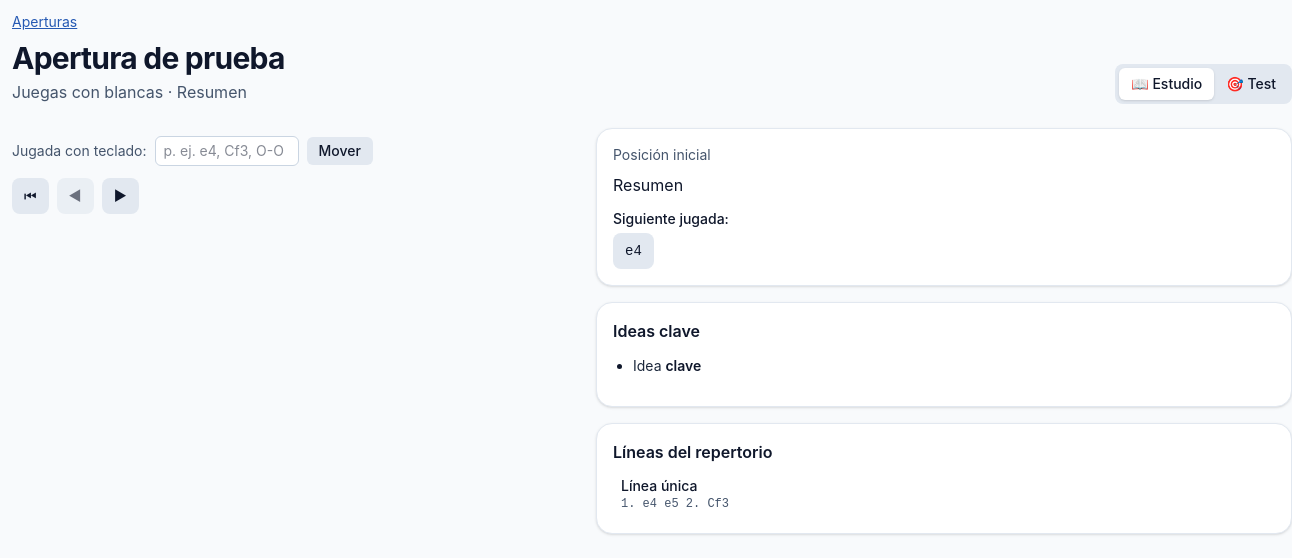
it: OpeningPage › modo estudio: recorre la línea con comentarios
Expected: the text "Idea" is shown, [633,357,665,374]
Click the button "e4" at (633, 251), box [613,233,654,269]
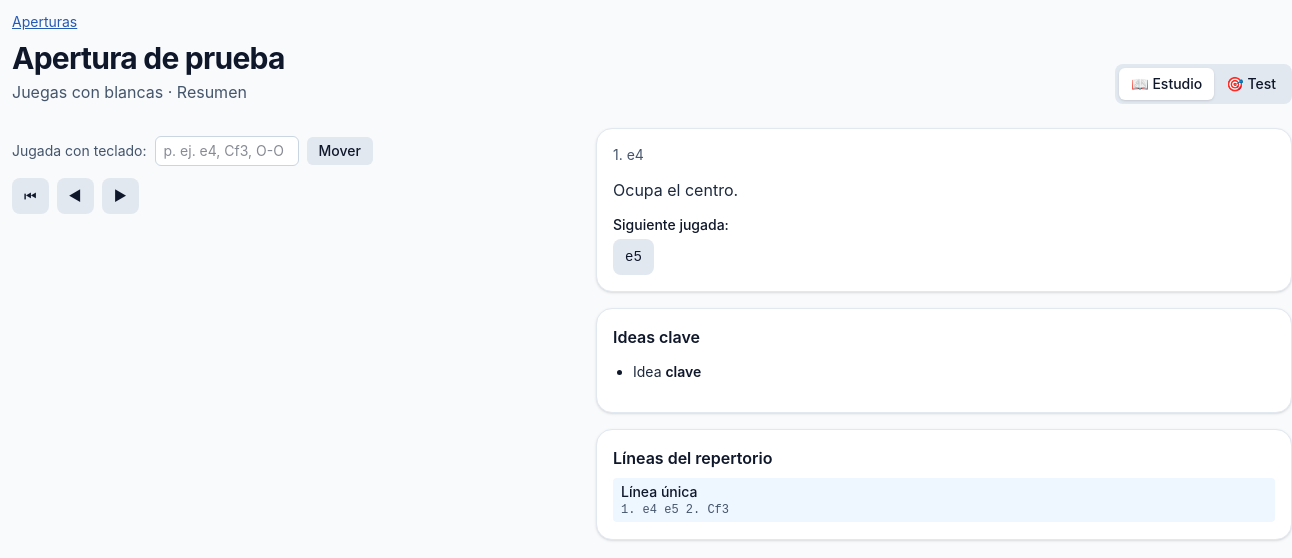
Now the text "Ocupa el centro." is shown, box [613,180,738,200]
Type "d5" into the field labelled "Jugada con teclado:" at (226, 151), box [154,136,298,166]
Then press Enter
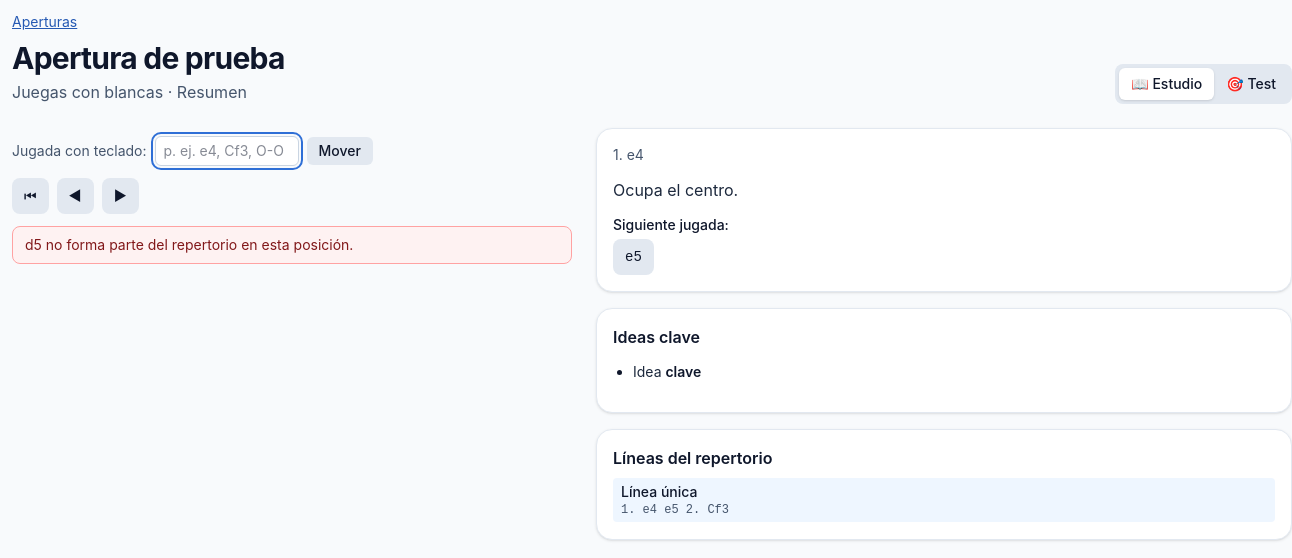
Now the text "d5 no forma parte del repertorio en esta posición." is shown, box [12,226,572,264]
